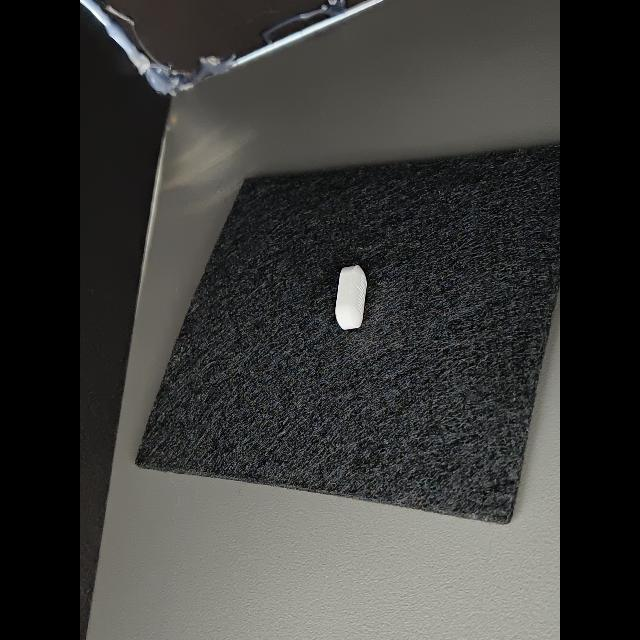Intact Pill: (335, 265, 367, 330)
